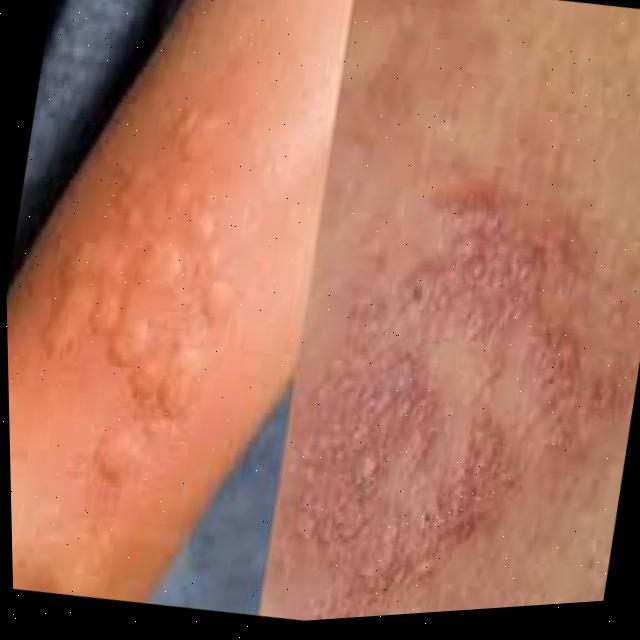Eczema: (257, 134, 640, 573), (3, 107, 268, 490)
